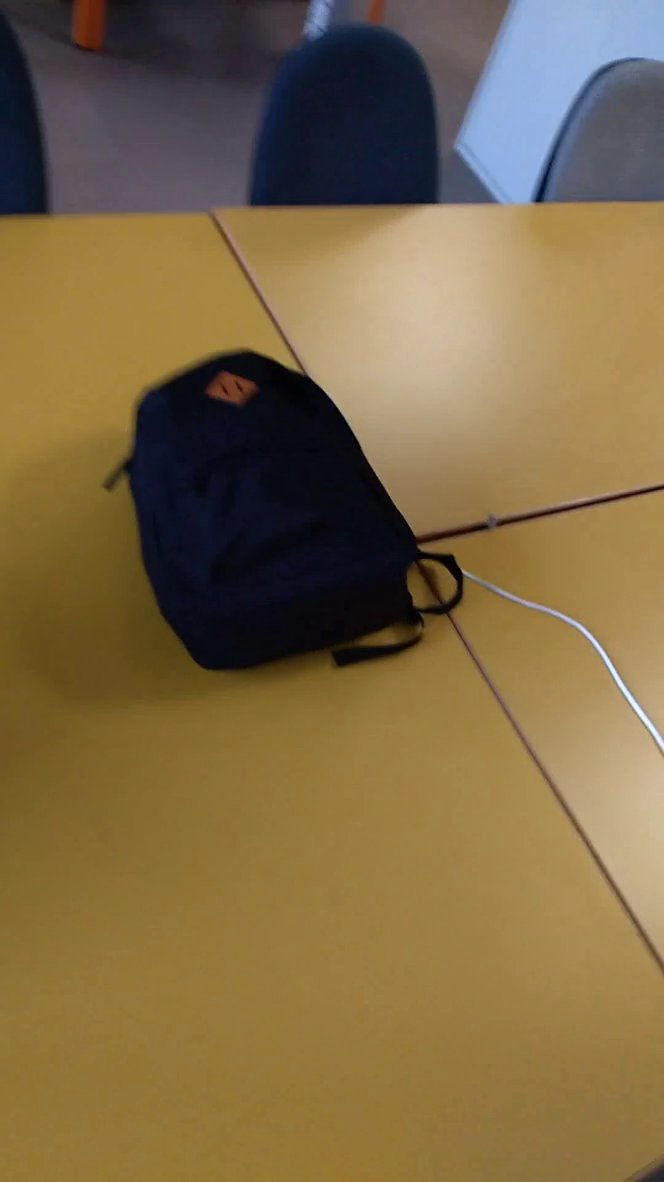bag: (93, 345, 495, 685)
chair: (244, 12, 473, 218), (525, 44, 664, 236)
